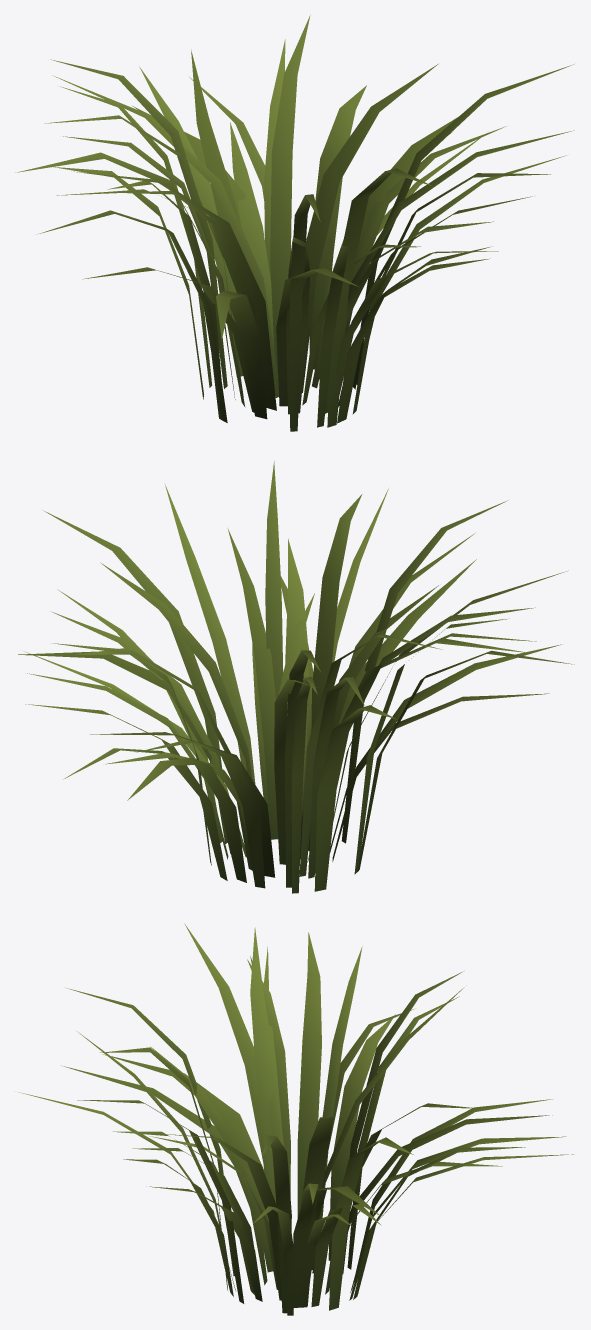
The model's file is arching.glb.
The picture shows the model from 3 angles, top to bottom: view 1: azimuth 30°, elevation 25°; view 2: azimuth 150°, elevation 25°; view 3: azimuth 270°, elevation 25°; orthographic projection. The views are drawn at different scales.
Visible parts, largest first — view 1: arching; view 2: arching; view 3: arching.
Boxes of the visible parts, x1,y1,x2,y2 form: arching: (15,15,574,431); arching: (18,461,574,893); arching: (18,923,573,1315).
Size of the model in its own units: 0.8361 by 0.453 by 0.8657.
